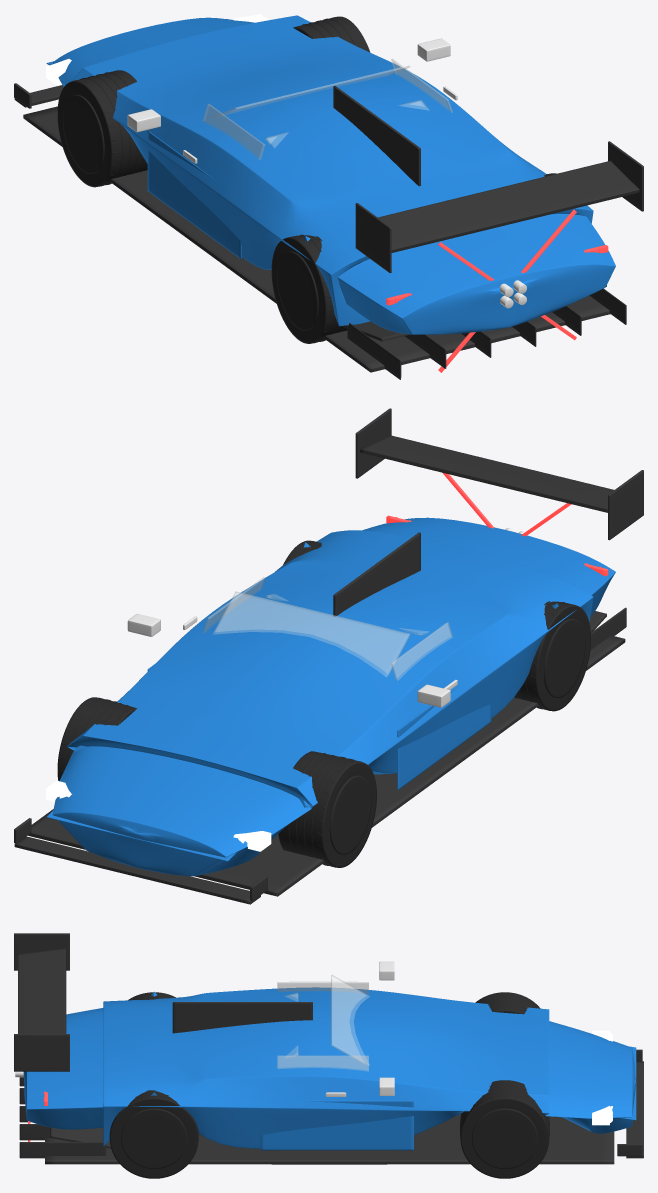
Rendered from vehicle.opt.glb.
The picture shows the model from 3 angles, top to bottom: view 1: azimuth 30°, elevation 25°; view 2: azimuth 150°, elevation 25°; view 3: azimuth 270°, elevation 25°; orthographic projection. The views are drawn at different scales.
Parts seen in each view (by area): view 1: BODY_MainShell, AERO_Bolide_SharkFinAndWing, UNDERBODY_FlatFloor, WHEEL_FL_Tire, WHEEL_RL_Tire, BODY_Door_FL, GLASS_Greenhouse, JEWELRY_Hardware, WHEEL_FR_Tire, LIGHTING_Bolide_XPatternTaillights, AERO_FrontSplitter, LIGHTING_Headlamps (+1 smaller); view 2: BODY_MainShell, AERO_Bolide_SharkFinAndWing, UNDERBODY_FlatFloor, GLASS_Greenhouse, WHEEL_FL_Tire, WHEEL_RL_Tire, AERO_FrontSplitter, BODY_Door_FL, WHEEL_FR_Tire, JEWELRY_Hardware, LIGHTING_Headlamps; view 3: BODY_MainShell, UNDERBODY_FlatFloor, AERO_Bolide_SharkFinAndWing, WHEEL_FR_Tire, WHEEL_RR_Tire, BODY_Door_FR, GLASS_Greenhouse, AERO_FrontSplitter, WHEEL_FL_Tire, JEWELRY_Hardware, LIGHTING_Headlamps.
Boxes of the visible parts, <box> form: BODY_MainShell: <box>53,15,615,334</box>; AERO_Bolide_SharkFinAndWing: <box>333,86,643,272</box>; UNDERBODY_FlatFloor: <box>23,106,626,379</box>; WHEEL_FL_Tire: <box>57,70,147,187</box>; WHEEL_RL_Tire: <box>271,234,347,343</box>; BODY_Door_FL: <box>147,131,241,259</box>; GLASS_Greenhouse: <box>203,59,452,159</box>; JEWELRY_Hardware: <box>127,38,457,163</box>; WHEEL_FR_Tire: <box>293,16,370,52</box>; LIGHTING_Bolide_XPatternTaillights: <box>438,209,576,372</box>; AERO_FrontSplitter: <box>14,83,63,108</box>; LIGHTING_Headlamps: <box>46,14,268,85</box>; BODY_MainShell: <box>52,517,615,876</box>; AERO_Bolide_SharkFinAndWing: <box>333,408,643,616</box>; UNDERBODY_FlatFloor: <box>28,607,626,896</box>; GLASS_Greenhouse: <box>203,577,452,680</box>; WHEEL_FL_Tire: <box>278,751,376,867</box>; WHEEL_RL_Tire: <box>514,601,590,711</box>; AERO_FrontSplitter: <box>14,818,267,904</box>; BODY_Door_FL: <box>397,680,491,790</box>; WHEEL_FR_Tire: <box>57,697,136,780</box>; JEWELRY_Hardware: <box>127,614,457,707</box>; LIGHTING_Headlamps: <box>46,780,271,851</box>; BODY_MainShell: <box>23,987,636,1148</box>; UNDERBODY_FlatFloor: <box>19,1077,614,1164</box>; AERO_Bolide_SharkFinAndWing: <box>14,933,312,1071</box>; WHEEL_FR_Tire: <box>460,1080,549,1178</box>; WHEEL_RR_Tire: <box>109,1090,199,1178</box>; BODY_Door_FR: <box>260,1100,413,1150</box>; GLASS_Greenhouse: <box>277,975,369,1071</box>; AERO_FrontSplitter: <box>617,1049,643,1158</box>; WHEEL_FL_Tire: <box>475,992,540,1014</box>; JEWELRY_Hardware: <box>325,961,394,1096</box>; LIGHTING_Headlamps: <box>592,1030,612,1125</box>.
Size of what is drawn, in the model's own units: 2.33 by 1.23 by 4.94.
